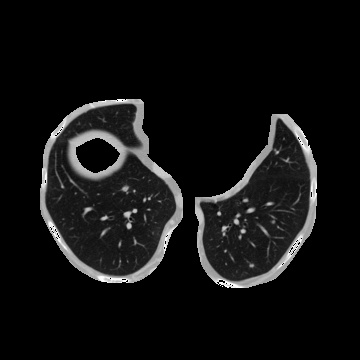PN: (121, 184, 129, 192)
